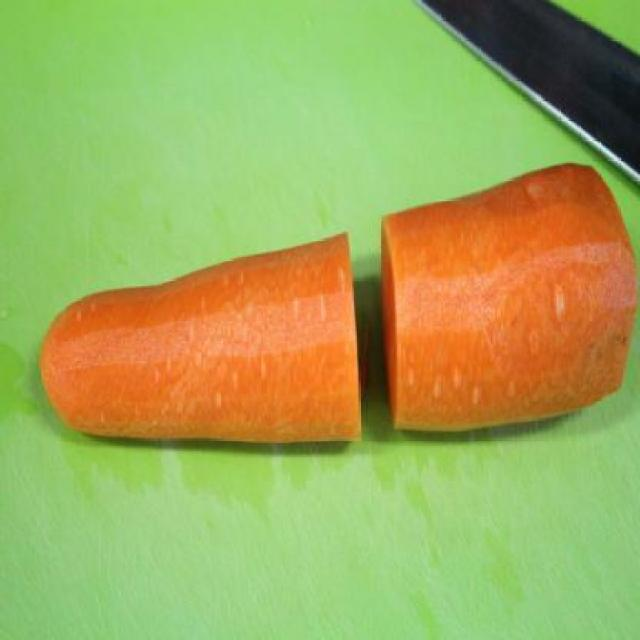carrot: (372, 152, 640, 440), (38, 228, 368, 456)
